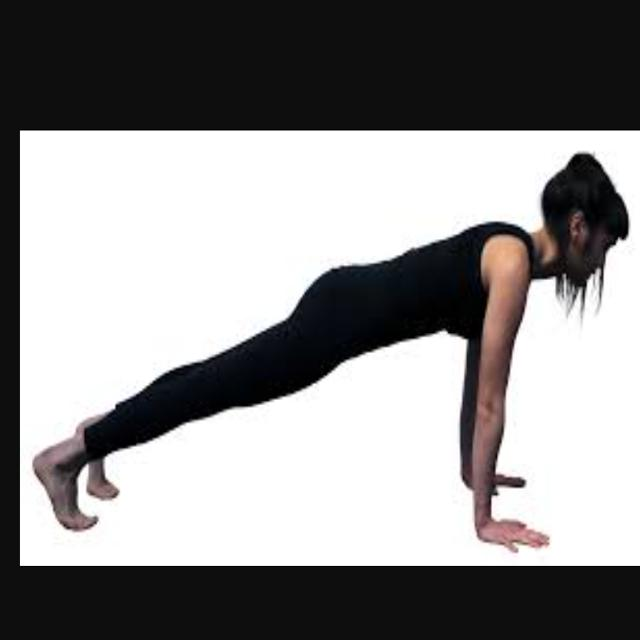Plank_Pose: (32, 148, 630, 557)
